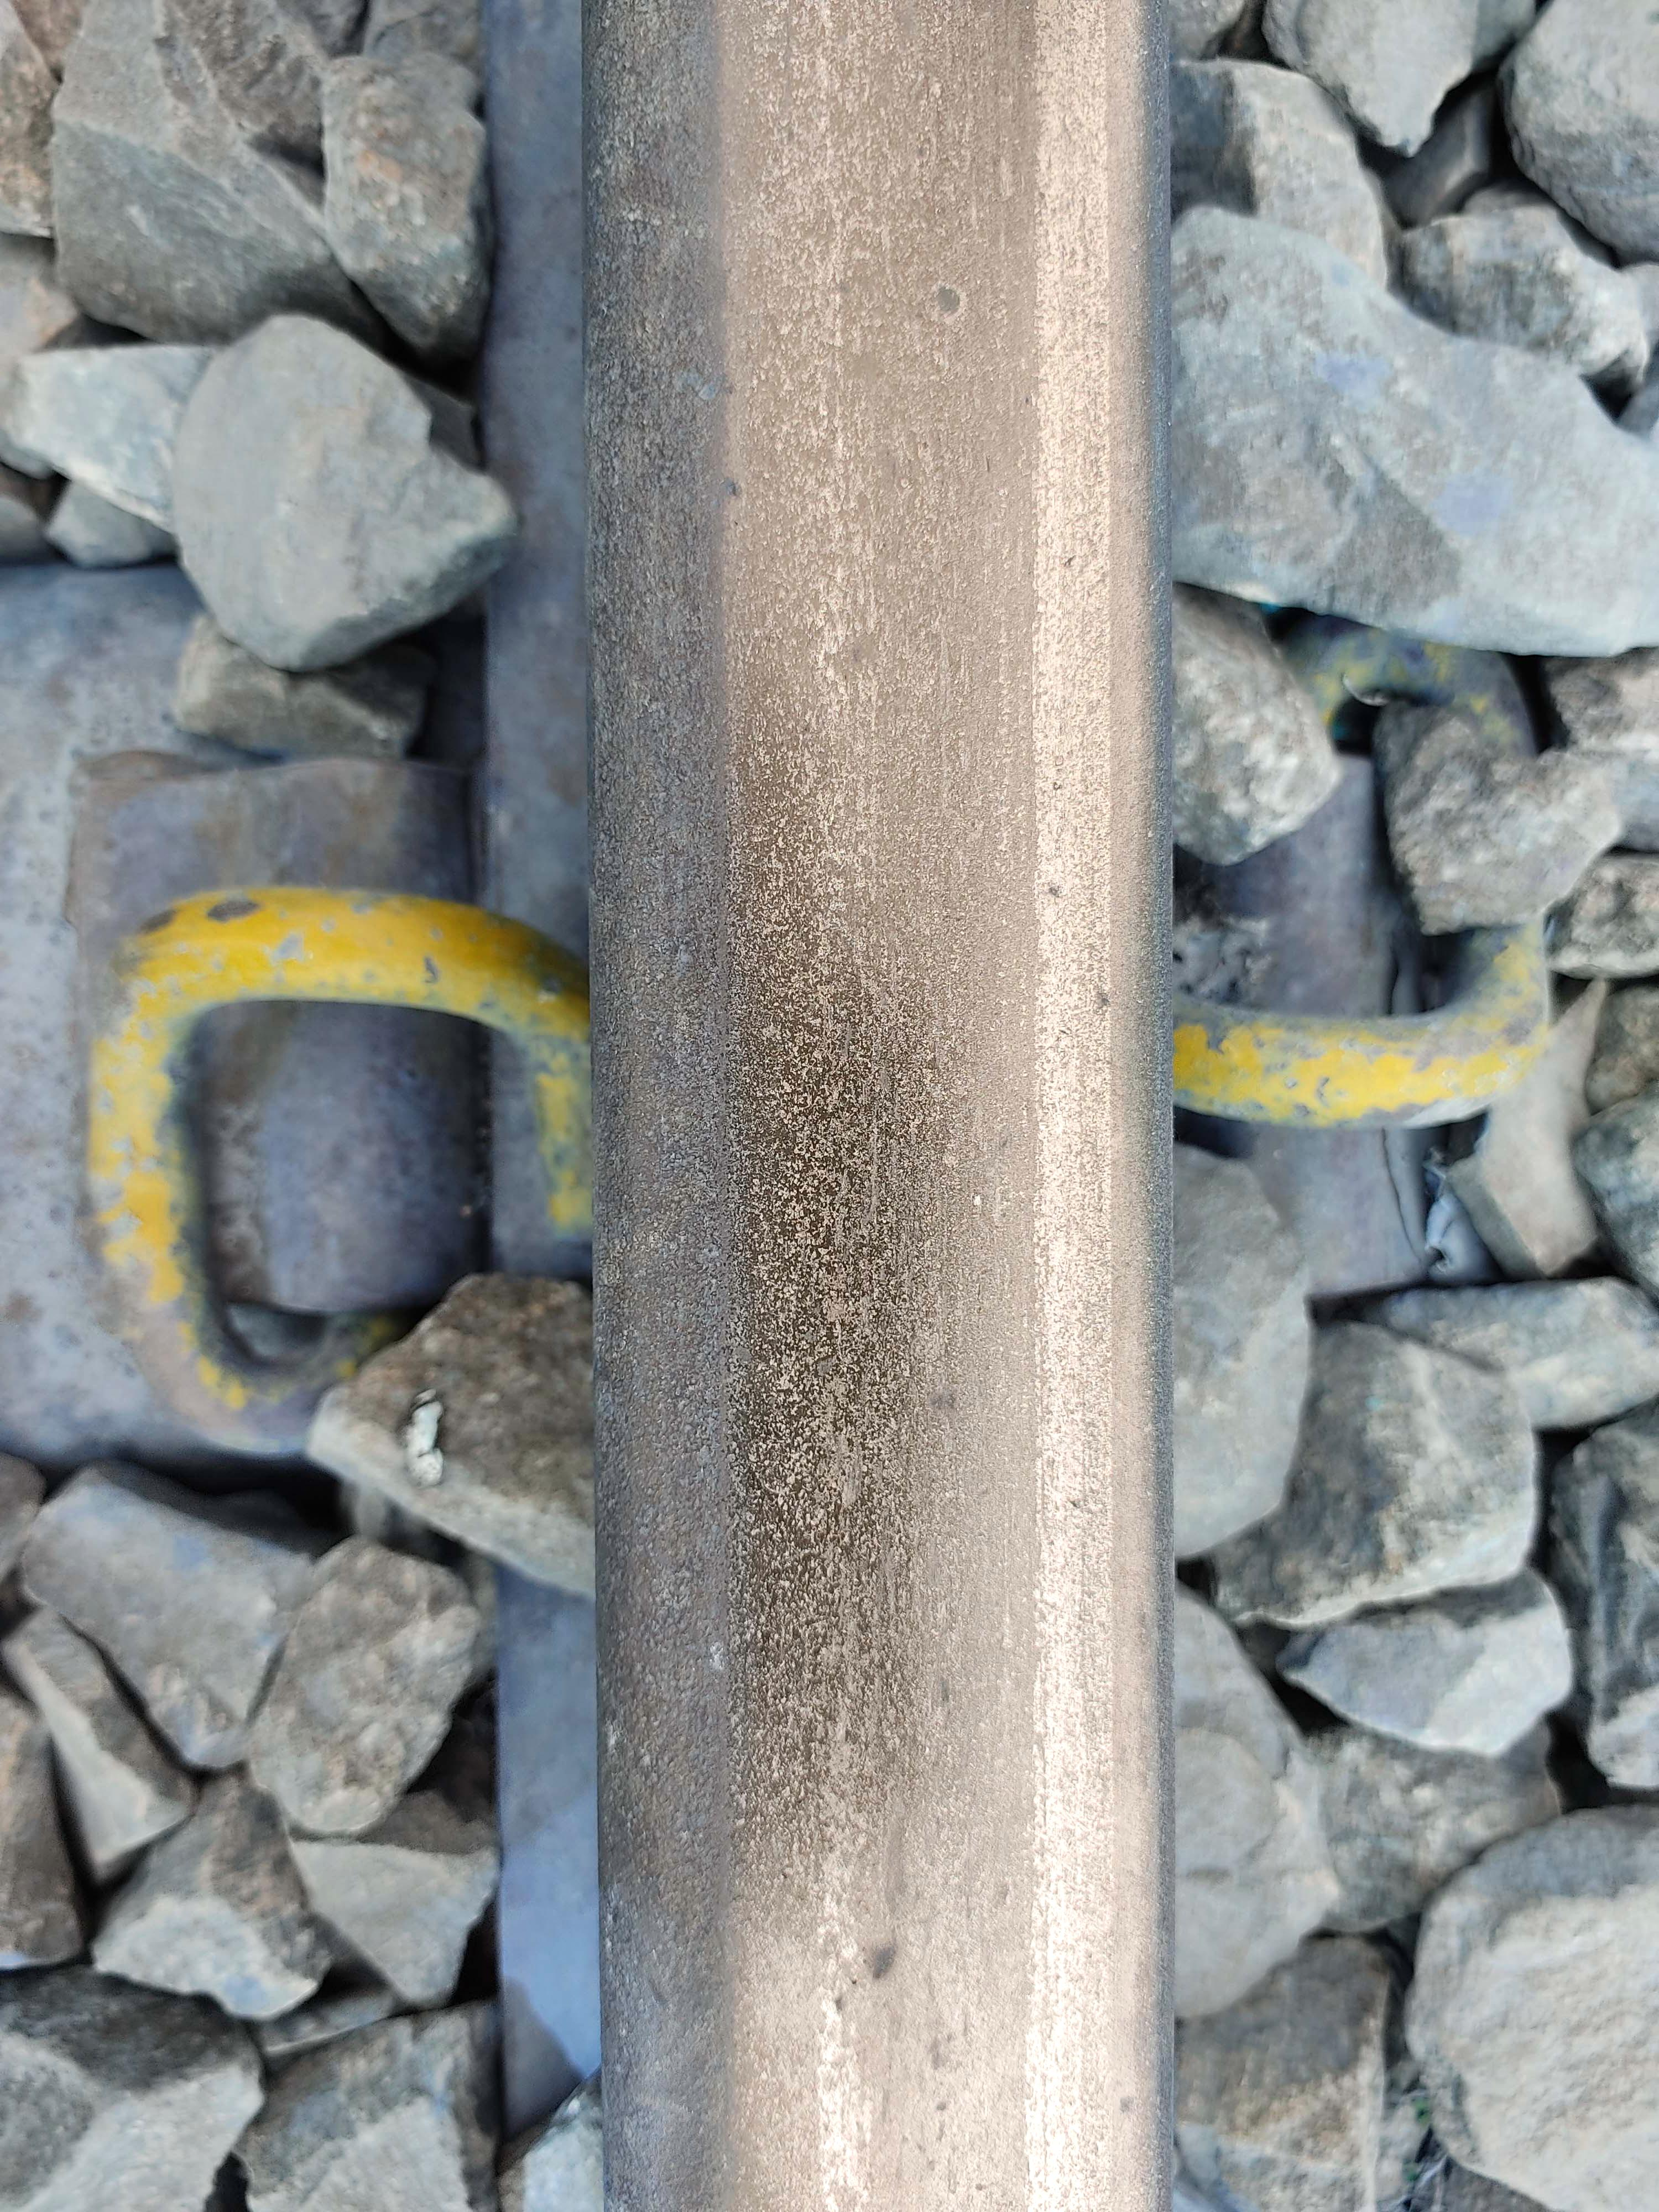error1: (85, 768, 746, 1519), (1162, 798, 1568, 1200)
